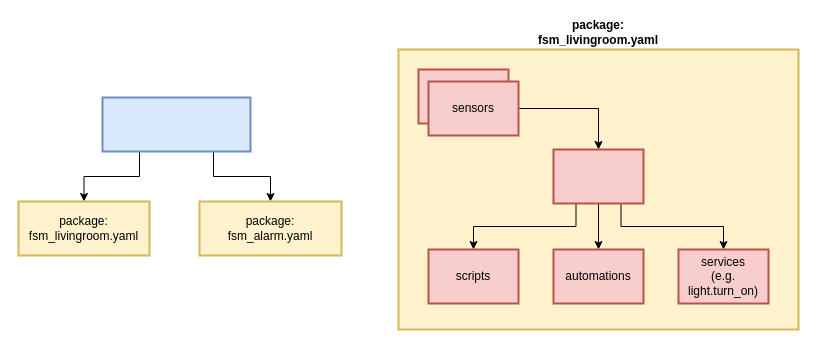
This 816x347 diagram has some shape labels left out. The centre of each missing label's shape, as x and y in pixels:
"configuration.yaml" goes at pixel 176 124.
"input_fsm" goes at pixel 598 176.
